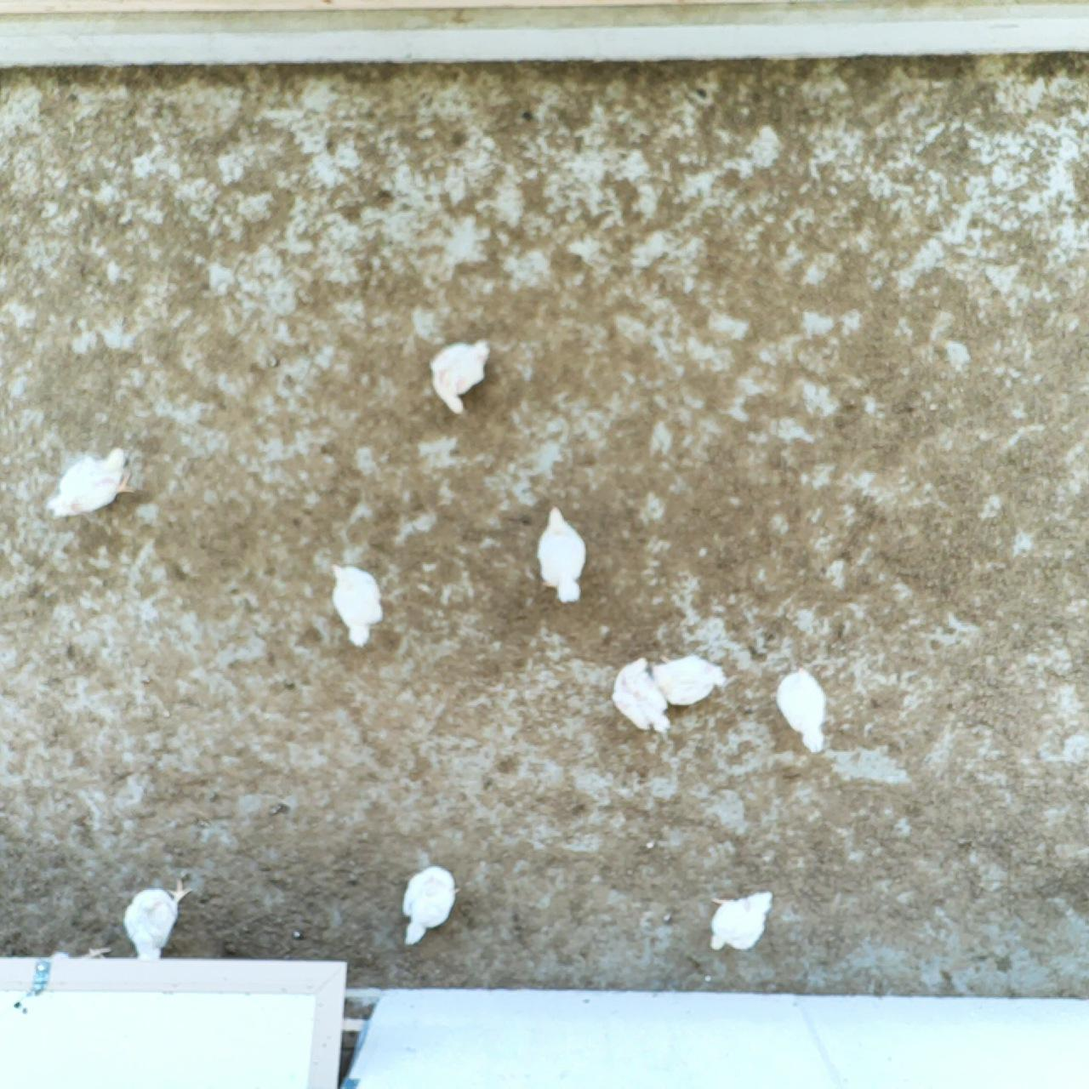chicken: (44, 440, 136, 524), (424, 332, 497, 418), (121, 875, 191, 964), (532, 499, 589, 607), (325, 558, 389, 649), (609, 649, 675, 733), (773, 661, 830, 755), (399, 862, 461, 947), (650, 648, 728, 709), (707, 885, 776, 952)
